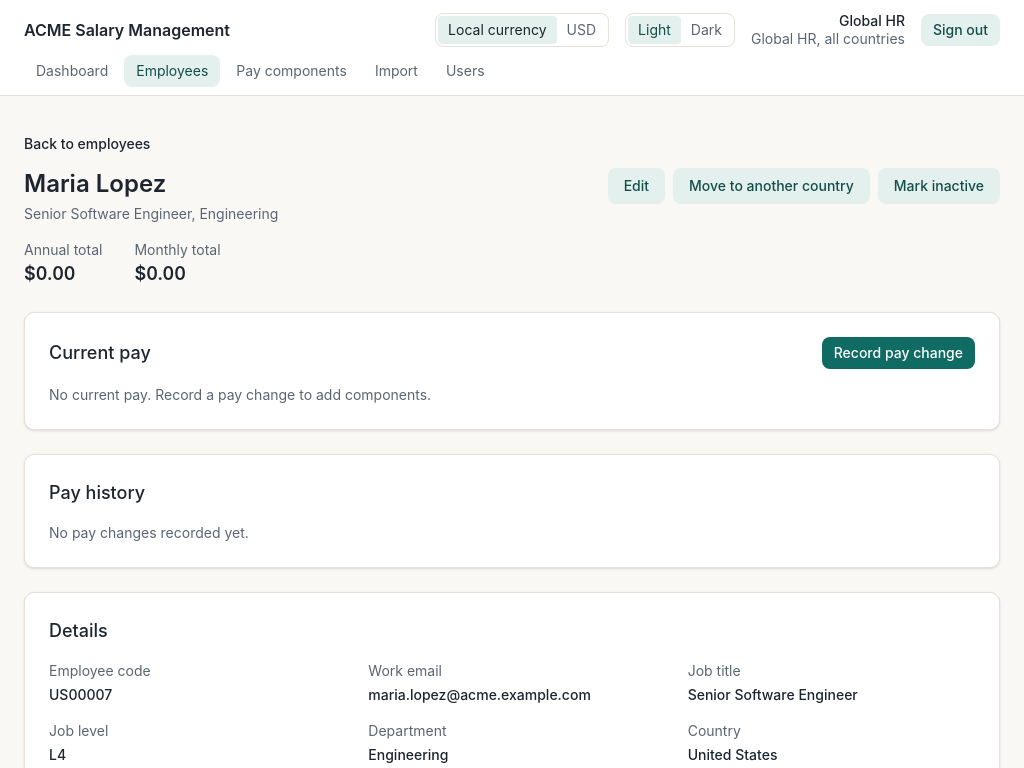
Test: EmployeePage › shows the reason when the change is refused
Click the button "Mark inactive" at (939, 186), box [878, 168, 1000, 204]
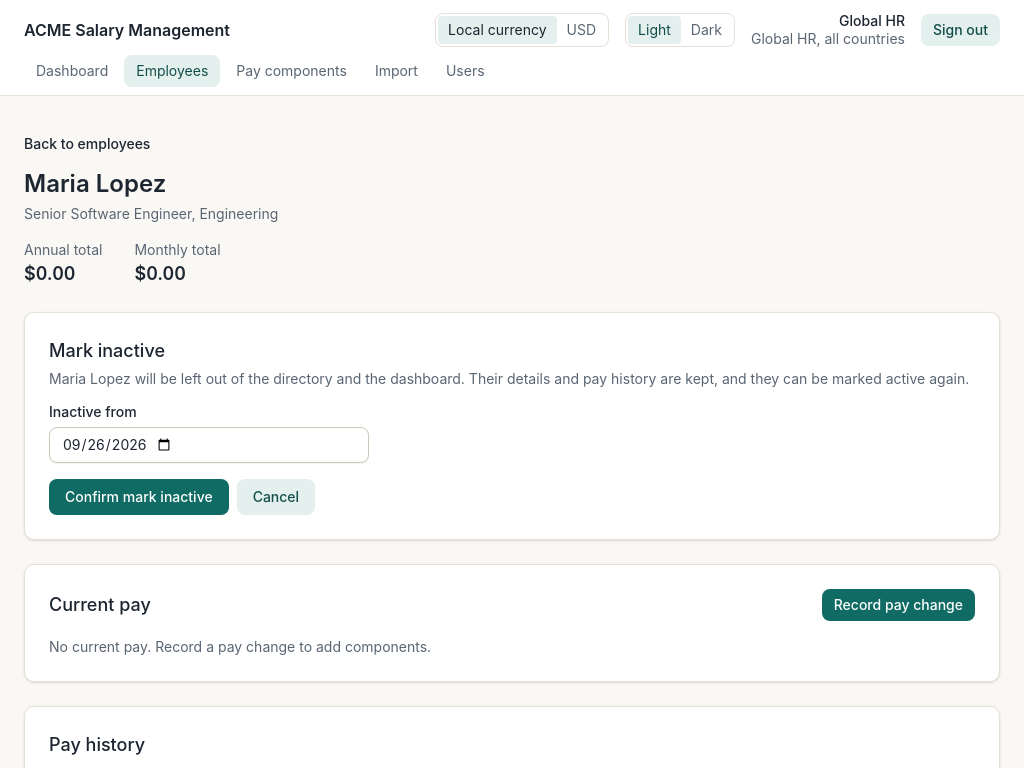
Click the button "Confirm mark inactive" at (139, 497), box [49, 479, 229, 515]
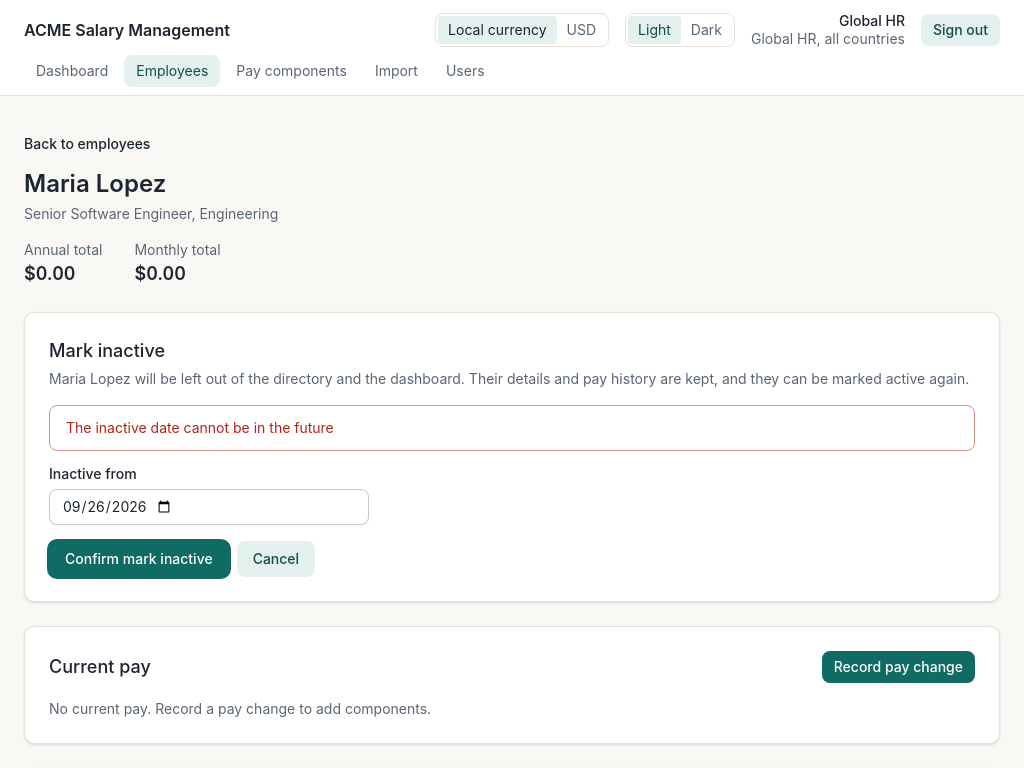
Expected: the message reads "The inactive date cannot be in the future", [66, 419, 334, 436]
